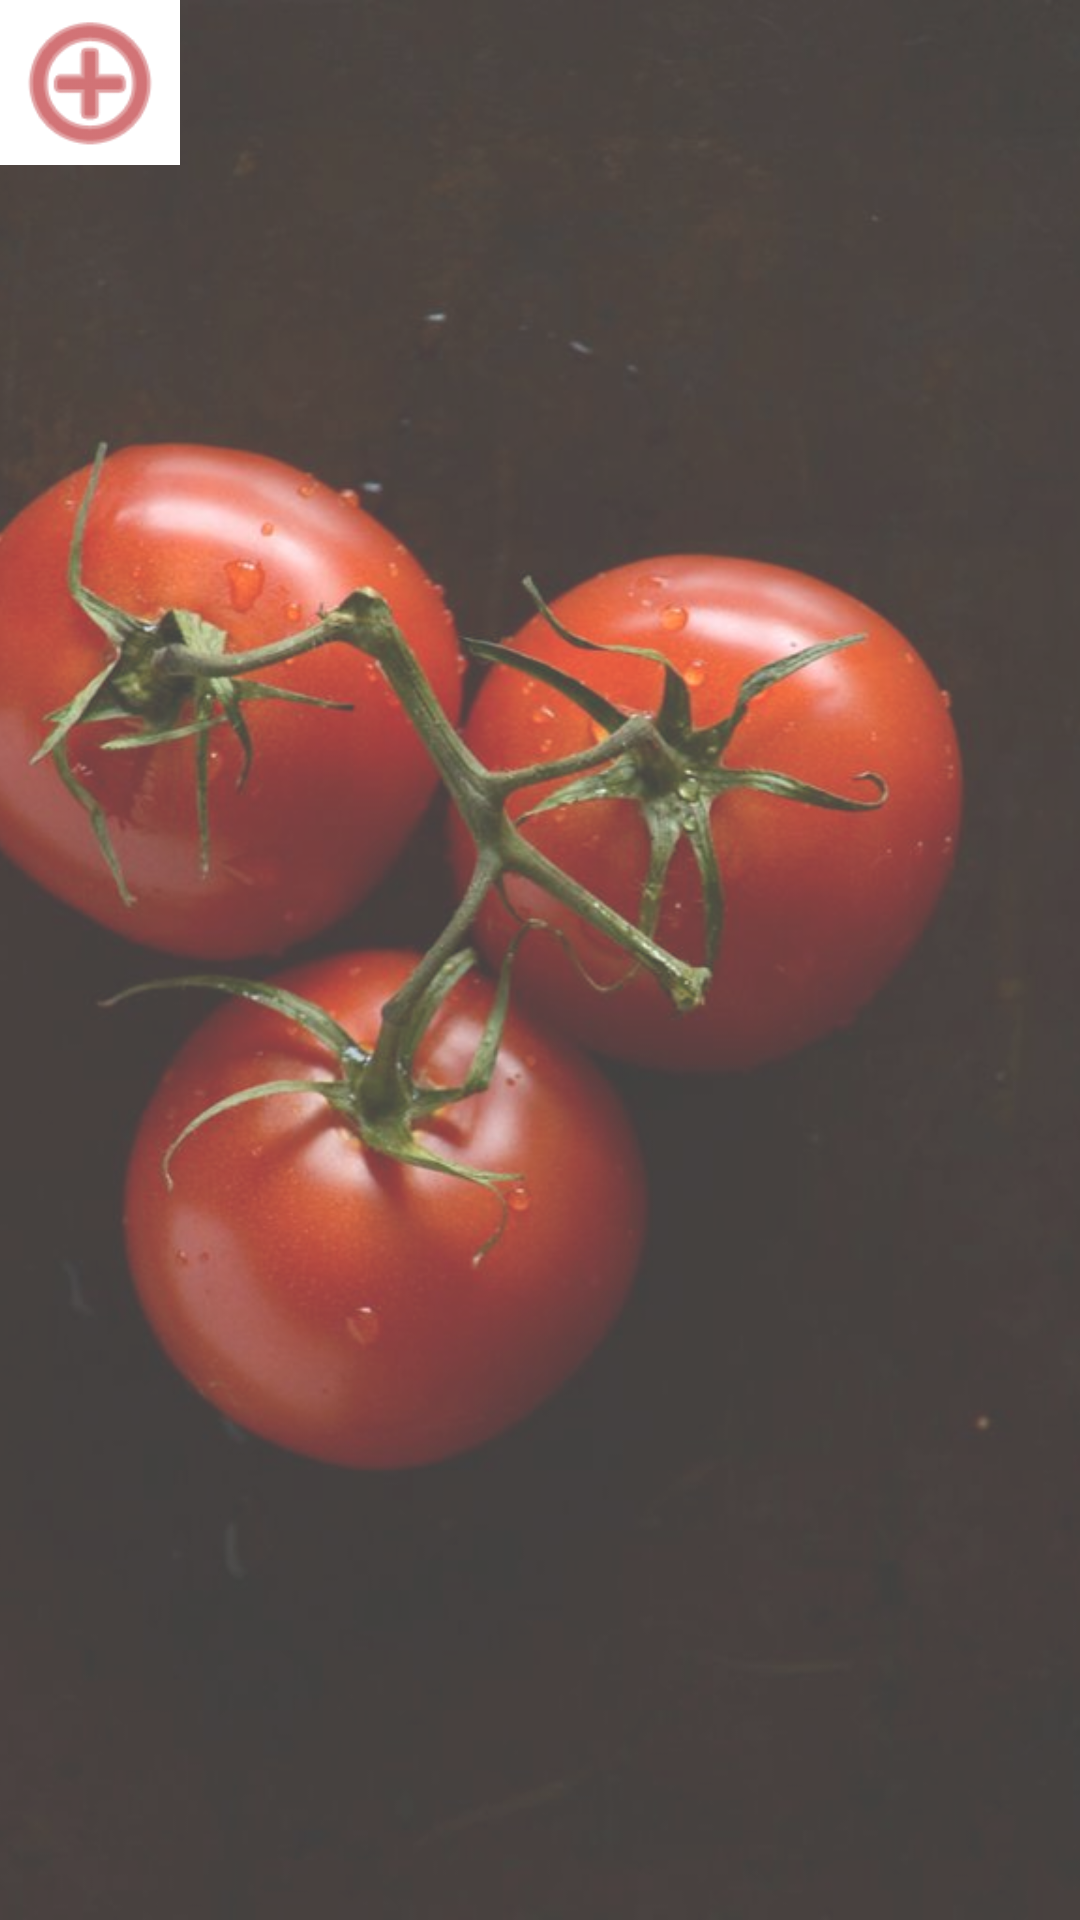

Icon bounding boxes for this 1080*1920 phone screenshot, format (x1, y1, x2, y2):
add: (0, 0, 180, 165)
